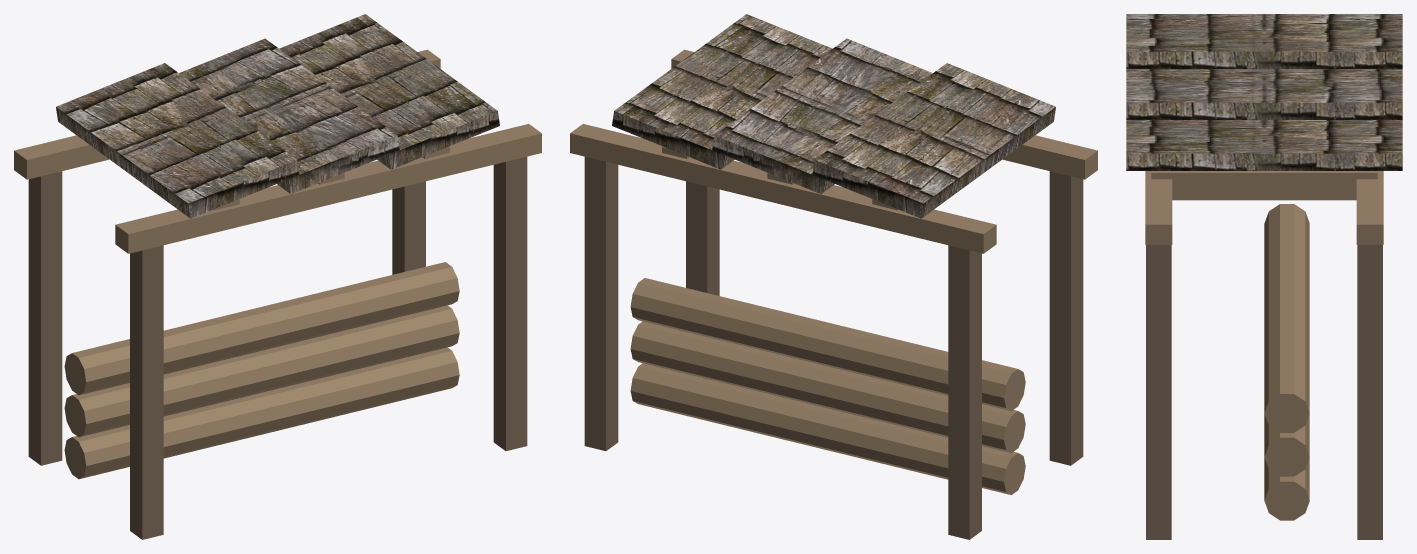
File: brennholz_unterstand.glb
3 views of the same model, side by side, from view 1: azimuth 30°, elevation 25°; view 2: azimuth 150°, elevation 25°; view 3: azimuth 270°, elevation 25° (orthographic). The views are drawn at different scales.
Visible parts, largest first — view 1: part_009, part_011, part_010, part_005, part_000, part_003, part_001, part_026, part_020, part_025, part_016, part_015 (+12 smaller); view 2: part_009, part_011, part_010, part_004, part_001, part_002, part_000, part_025, part_003, part_014, part_021, part_024 (+12 smaller); view 3: part_009, part_010, part_011, part_002, part_003, part_008, part_026, part_022, part_016, part_021, part_004, part_005 (+3 smaller).
Part boxes in pixels (box(x1,y1,x2,y2)): part_009: box(56, 63, 299, 218); part_011: box(279, 14, 499, 169); part_010: box(179, 38, 399, 193); part_005: box(115, 124, 541, 253); part_000: box(28, 171, 62, 465); part_003: box(493, 156, 527, 450); part_001: box(130, 245, 163, 539); part_026: box(358, 262, 459, 325); part_020: box(288, 323, 388, 380); part_025: box(286, 281, 388, 342); part_016: box(360, 347, 459, 409); part_015: box(289, 366, 388, 426); part_009: box(812, 63, 1055, 218); part_011: box(612, 14, 832, 169); part_010: box(712, 38, 932, 193); part_004: box(570, 124, 996, 253); part_001: box(1049, 171, 1083, 465); part_002: box(584, 156, 618, 450); part_000: box(948, 245, 981, 539); part_025: box(702, 296, 803, 354); part_003: box(686, 181, 719, 295); part_014: box(773, 398, 870, 458); part_021: box(630, 321, 729, 379); part_024: box(774, 316, 870, 374); part_009: box(1126, 14, 1402, 68); part_010: box(1126, 69, 1402, 119); part_011: box(1126, 120, 1402, 170); part_002: box(1357, 245, 1382, 539); part_003: box(1146, 245, 1171, 539); part_008: box(1151, 171, 1377, 200); part_026: box(1264, 353, 1309, 432); part_022: box(1264, 204, 1309, 267); part_016: box(1264, 457, 1309, 520); part_021: box(1264, 417, 1309, 476); part_004: box(1356, 171, 1383, 244); part_005: box(1145, 171, 1172, 244).
Bounding box in the file's own units: 3.3 × 2.68 × 1.83.
Materials: 1 (1 with a texture image).
